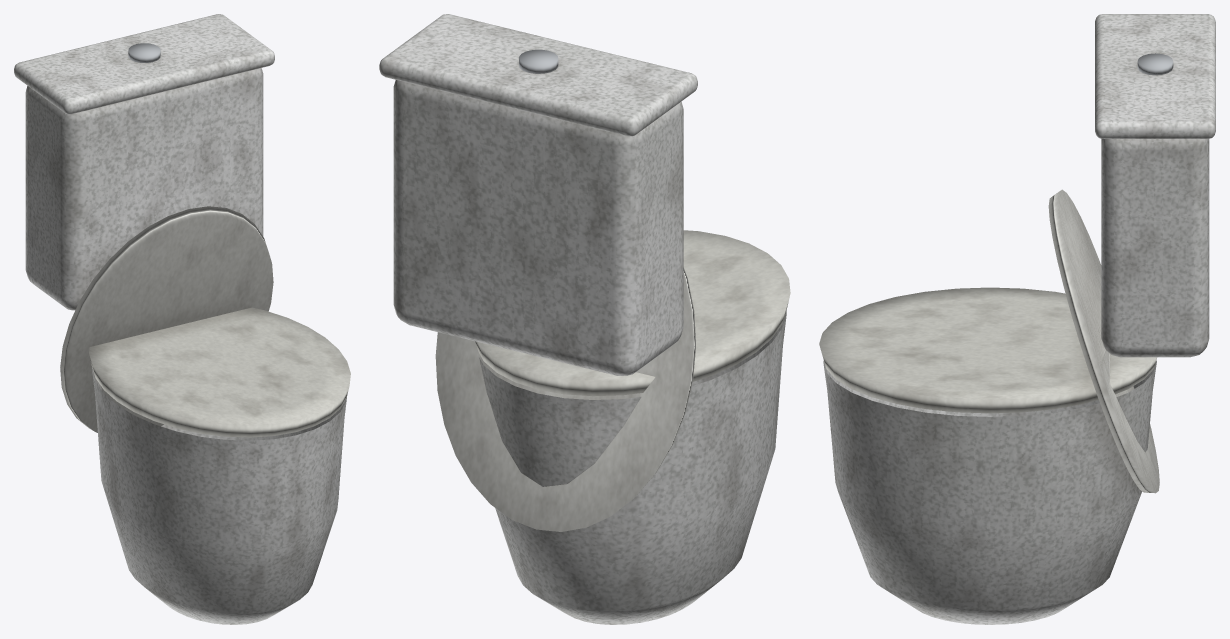
File: lazienka_sedes.glb
The picture shows the model from 3 angles, left to right: view 1: azimuth 30°, elevation 25°; view 2: azimuth 150°, elevation 25°; view 3: azimuth 270°, elevation 25°; orthographic projection. The views are drawn at different scales.
Parts seen in each view (by area): view 1: Sedes, Chrom; view 2: Sedes, Chrom; view 3: Sedes, Chrom.
Boxes of the visible parts, box(x1,y1,x2,y2) form: Sedes: box(14, 14, 350, 624); Chrom: box(128, 43, 160, 62); Sedes: box(379, 14, 790, 624); Chrom: box(519, 49, 558, 73); Sedes: box(819, 14, 1215, 624); Chrom: box(1137, 53, 1173, 75).
Bounding box in the file's own units: 0.42 × 0.932 × 0.6238.
Materials: 2 (1 with a texture image).
